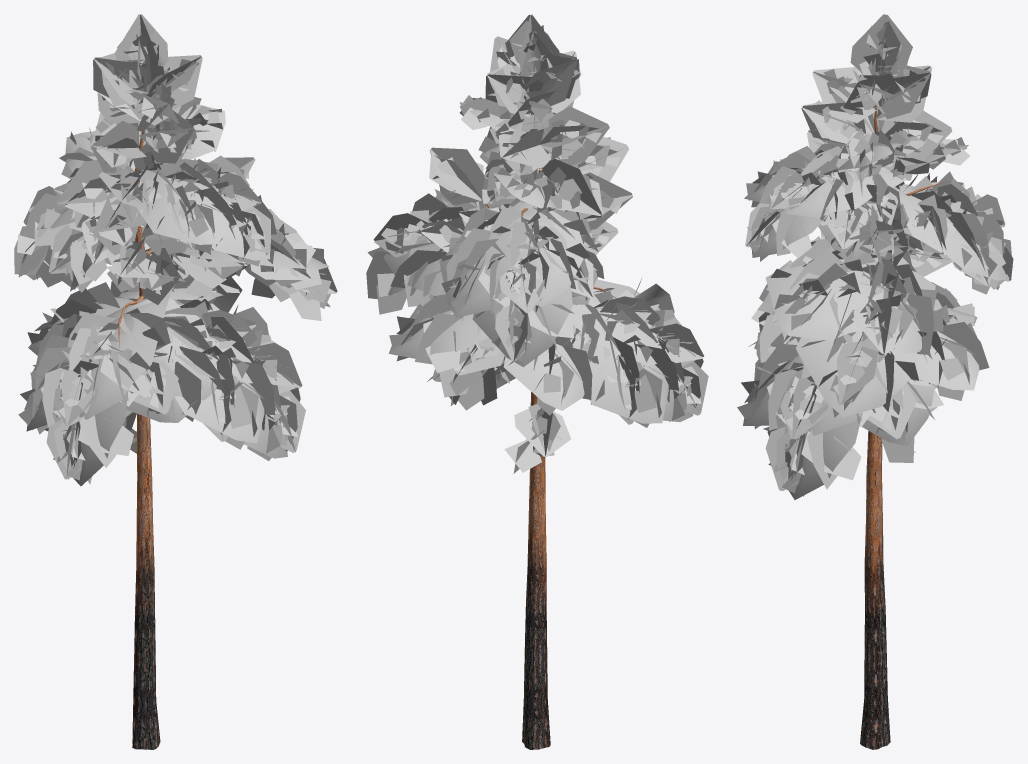
The model's file is pine_05.fbx.
The picture shows the model from 3 angles, left to right: view 1: azimuth 30°, elevation 25°; view 2: azimuth 150°, elevation 25°; view 3: azimuth 270°, elevation 25°; orthographic projection.
Visible parts, largest first — view 1: Cylinder_1; view 2: Cylinder_1; view 3: Cylinder_1.
Part boxes in pixels (<box>): Cylinder_1: <box>14,14,337,749</box>; Cylinder_1: <box>366,14,708,749</box>; Cylinder_1: <box>737,14,1013,749</box>.
Size of the model in its own units: 1265 by 2913 by 1003.
